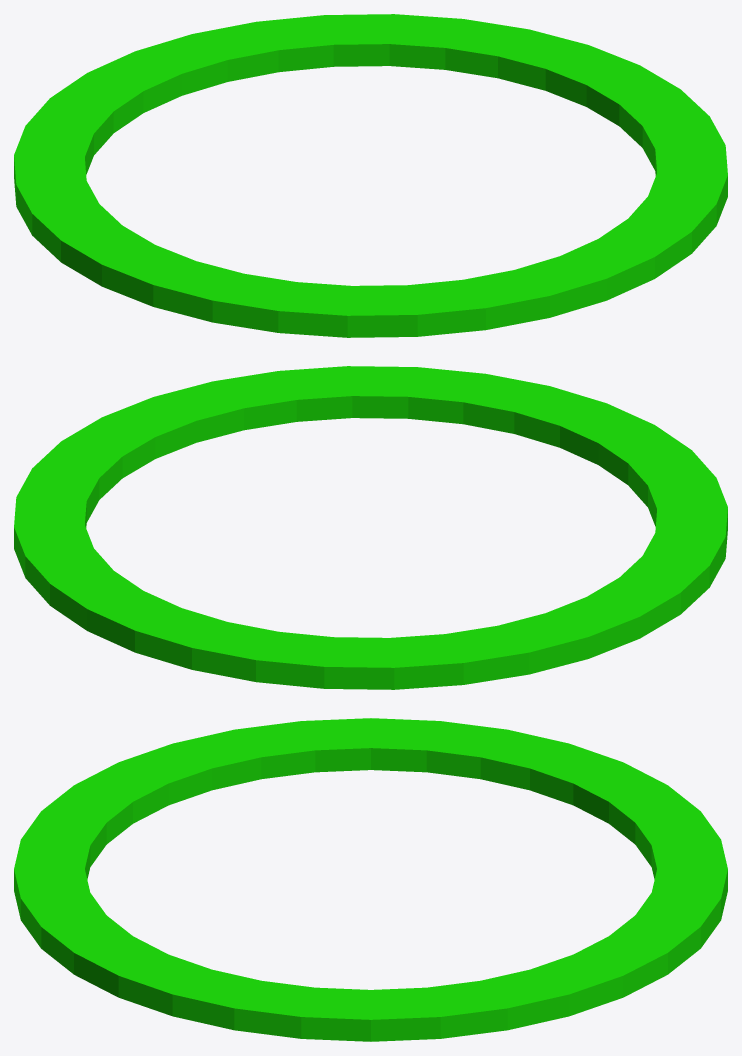
File: komono21.fbx
The picture shows the model from 3 angles, top to bottom: view 1: azimuth 30°, elevation 25°; view 2: azimuth 150°, elevation 25°; view 3: azimuth 270°, elevation 25°; orthographic projection.
Visible parts, largest first — view 1: Cylinder.021; view 2: Cylinder.021; view 3: Cylinder.021.
Part boxes in pixels (<box>): Cylinder.021: <box>14,14,727,337</box>; Cylinder.021: <box>14,366,727,689</box>; Cylinder.021: <box>14,718,727,1041</box>.
Bounding box in the file's own units: 200 × 6.79 × 200.
